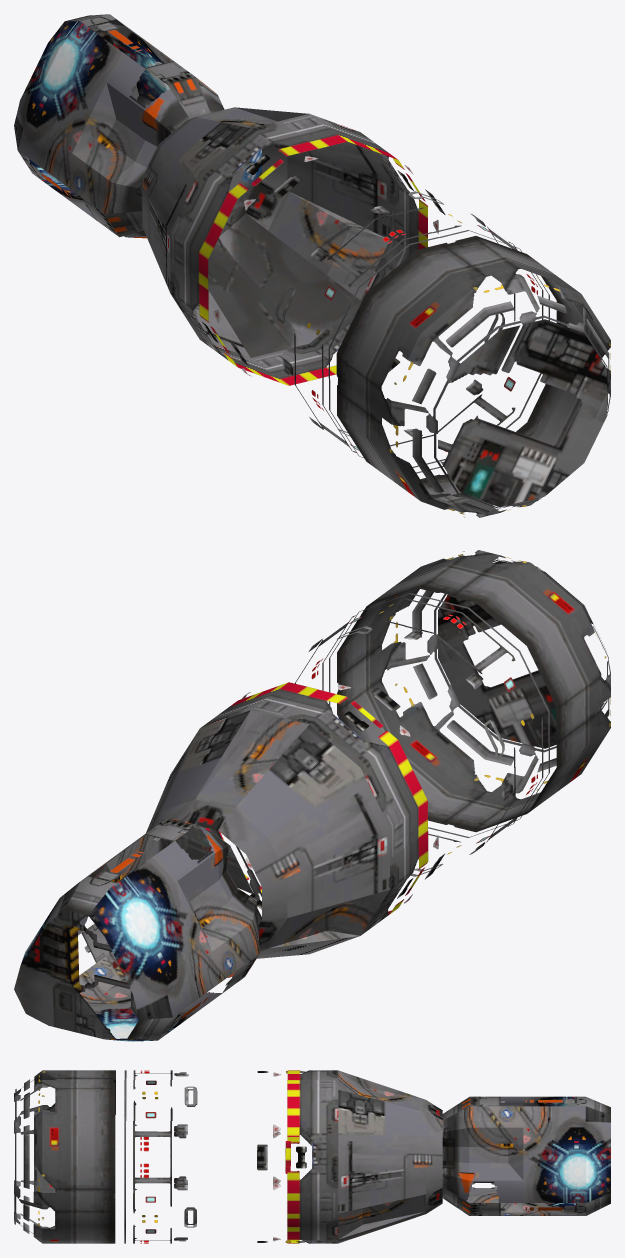
File: LOD0-UVFlip.obj
3 renders of one model, top to bottom at view 1: azimuth 30°, elevation 25°; view 2: azimuth 150°, elevation 25°; view 3: azimuth 270°, elevation 25°, orthographic. The views are drawn at different scales.
Parts seen in each view (by area): view 1: hw2Shader1; view 2: hw2Shader1; view 3: hw2Shader1.
Boxes of the visible parts, x1=… form: hw2Shader1: x1=14, y1=14, x2=610, y2=517; hw2Shader1: x1=14, y1=550, x2=610, y2=1041; hw2Shader1: x1=14, y1=1070, x2=610, y2=1243.
Bounding box in the file's own units: 4.82 × 4.82 × 16.97.
